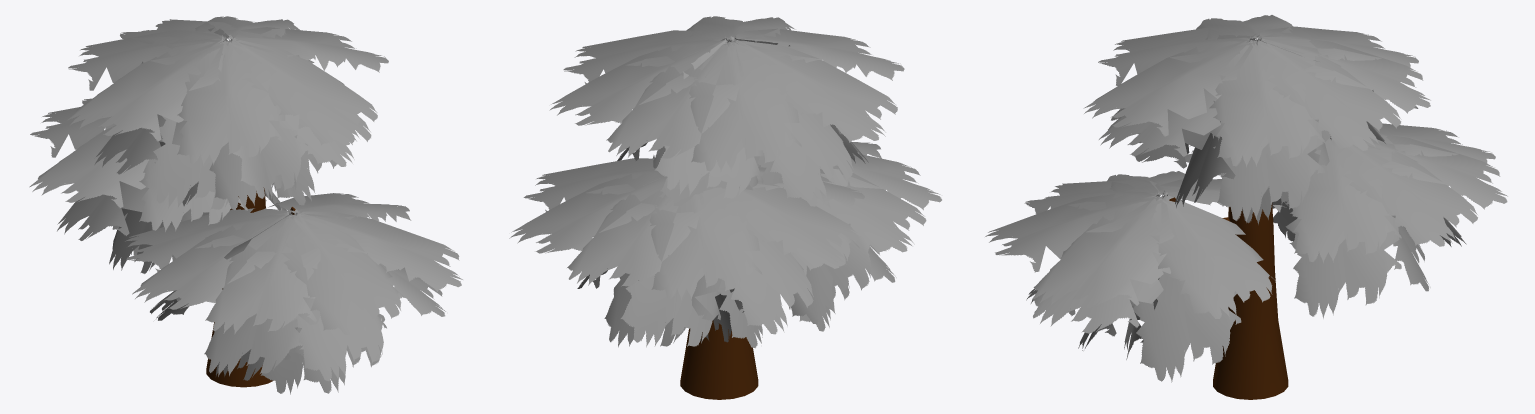
File: tree.FBX
The picture shows the model from 3 angles, left to right: view 1: azimuth 30°, elevation 25°; view 2: azimuth 150°, elevation 25°; view 3: azimuth 270°, elevation 25°; orthographic projection. The views are drawn at different scales.
Visible parts, largest first — view 1: Plane029, Plane008, Plane037, Plane030, Plane009, Plane007, Plane011, Plane006, Plane012, Plane023, Plane040, Plane028 (+20 smaller); view 2: Plane028, Plane004, Plane030, Plane025, Plane001, Plane006, Plane026, Plane002, Plane036, Plane024, Cylinder001, Plane021 (+17 smaller); view 3: Plane010, Plane011, Plane027, Cylinder001, Plane003, Plane037, Plane026, Plane002, Plane017, Plane018, Plane008, Plane032 (+16 smaller).
Boxes of the visible parts, x1=… form: Plane029: x1=177, y1=40, x2=285, y2=165; Plane008: x1=281, y1=212, x2=403, y2=334; Plane037: x1=224, y1=38, x2=377, y2=145; Plane030: x1=67, y1=37, x2=231, y2=141; Plane009: x1=205, y1=211, x2=320, y2=334; Plane007: x1=132, y1=211, x2=296, y2=309; Plane011: x1=290, y1=211, x2=462, y2=291; Plane006: x1=29, y1=125, x2=149, y2=207; Plane012: x1=125, y1=208, x2=294, y2=271; Plane023: x1=204, y1=212, x2=320, y2=376; Plane040: x1=209, y1=37, x2=312, y2=210; Plane028: x1=68, y1=30, x2=228, y2=90; Plane028: x1=689, y1=39, x2=801, y2=172; Plane004: x1=649, y1=187, x2=762, y2=300; Plane030: x1=726, y1=38, x2=897, y2=142; Plane025: x1=606, y1=40, x2=746, y2=158; Plane001: x1=567, y1=178, x2=707, y2=286; Plane006: x1=703, y1=178, x2=858, y2=270; Plane026: x1=549, y1=37, x2=733, y2=125; Plane002: x1=509, y1=172, x2=669, y2=253; Plane036: x1=725, y1=37, x2=853, y2=206; Plane024: x1=718, y1=221, x2=813, y2=334; Cylinder001: x1=680, y1=320, x2=758, y2=399; Plane021: x1=620, y1=274, x2=721, y2=347; Plane010: x1=1149, y1=194, x2=1275, y2=318; Plane011: x1=1033, y1=193, x2=1173, y2=307; Plane027: x1=1209, y1=39, x2=1324, y2=167; Cylinder001: x1=1169, y1=197, x2=1288, y2=399; Plane003: x1=1286, y1=138, x2=1401, y2=263; Plane037: x1=1083, y1=36, x2=1258, y2=136; Plane026: x1=1251, y1=37, x2=1401, y2=150; Plane002: x1=1330, y1=137, x2=1477, y2=246; Plane017: x1=1133, y1=192, x2=1241, y2=382; Plane018: x1=1285, y1=207, x2=1401, y2=318; Plane008: x1=985, y1=193, x2=1162, y2=272; Plane032: x1=1210, y1=37, x2=1324, y2=222.
Size of the model in its own units: 108 by 108 by 154.
